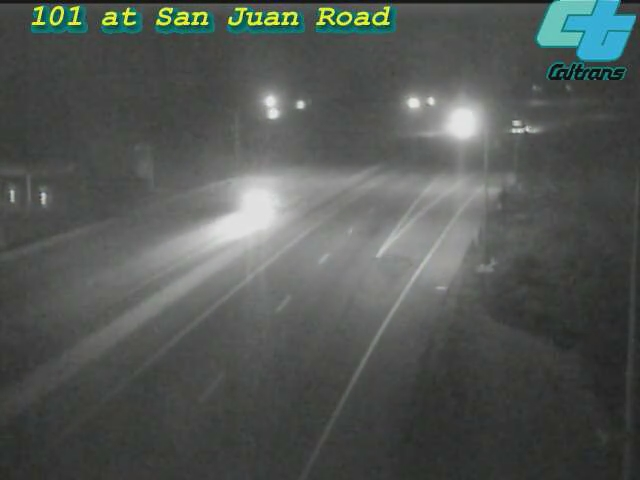vehicle: (207, 162, 287, 242), (436, 97, 486, 147), (497, 102, 547, 152)
